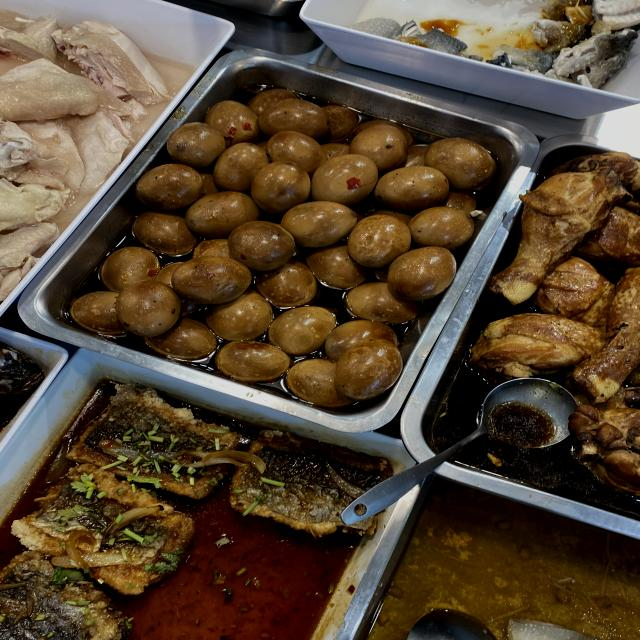braised egg: (152, 153, 443, 297)
